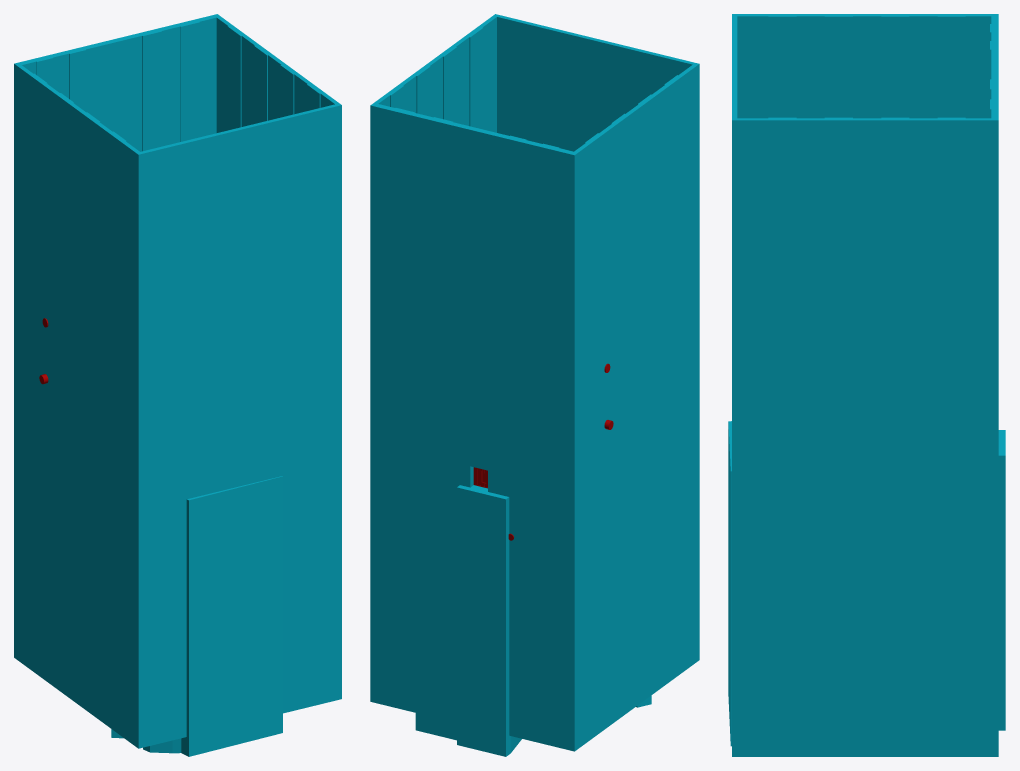
File: Blockout.fbx
3 renders of one model, left to right at view 1: azimuth 30°, elevation 25°; view 2: azimuth 150°, elevation 25°; view 3: azimuth 270°, elevation 25°, orthographic. The views are drawn at different scales.
Parts seen in each view (by area): view 1: Mur, Box005; view 2: Mur, Box001; view 3: Mur, Box001, Box005.
Boxes of the visible parts, x1,y1,x2,y2 form: Mur: [14, 14, 341, 748]; Box005: [111, 476, 282, 756]; Mur: [370, 14, 699, 751]; Box001: [415, 485, 521, 756]; Mur: [732, 14, 998, 756]; Box001: [998, 430, 1005, 730]; Box005: [728, 421, 731, 746].
Size of the model in its own units: 3653 by 10291 by 3934.
